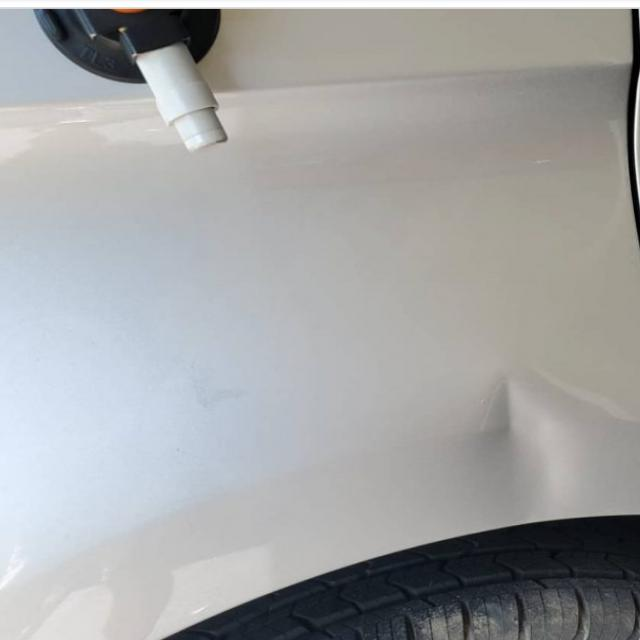dents: (462, 352, 596, 514)
